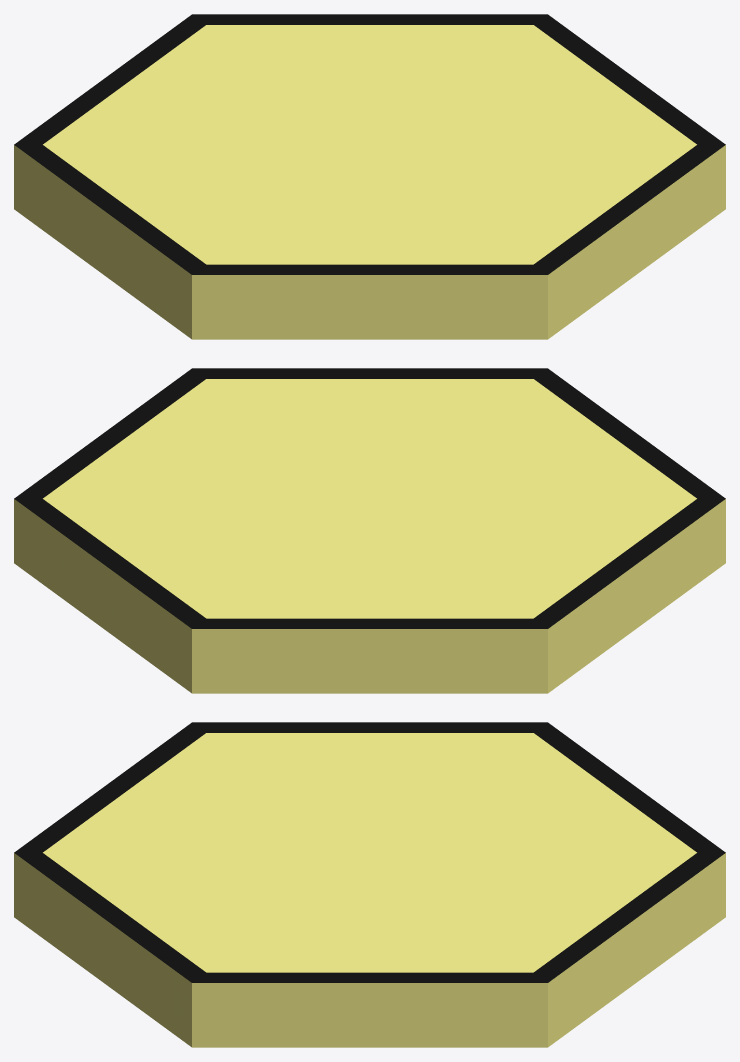
The model's file is _hover_tile.glb.
3 views of the same model, one above another, from view 1: azimuth 30°, elevation 25°; view 2: azimuth 150°, elevation 25°; view 3: azimuth 270°, elevation 25° (orthographic).
Parts seen in each view (by area): view 1: HoverTile; view 2: HoverTile; view 3: HoverTile.
Part boxes in pixels (x1,y1,x2,y2): HoverTile: [14, 14, 725, 339]; HoverTile: [14, 368, 725, 693]; HoverTile: [14, 722, 725, 1047].
Bounding box in the file's own units: 1.73 × 0.2 × 2.
1 material, 1 textured.
